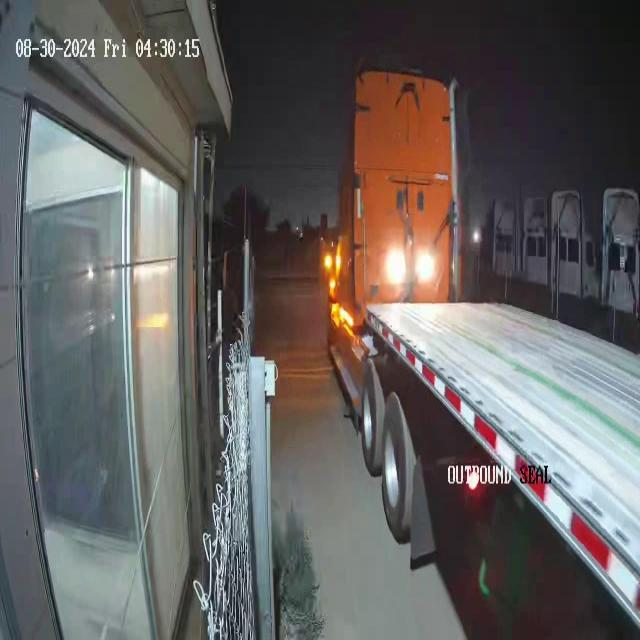BOBTAIL: (326, 62, 639, 637)
